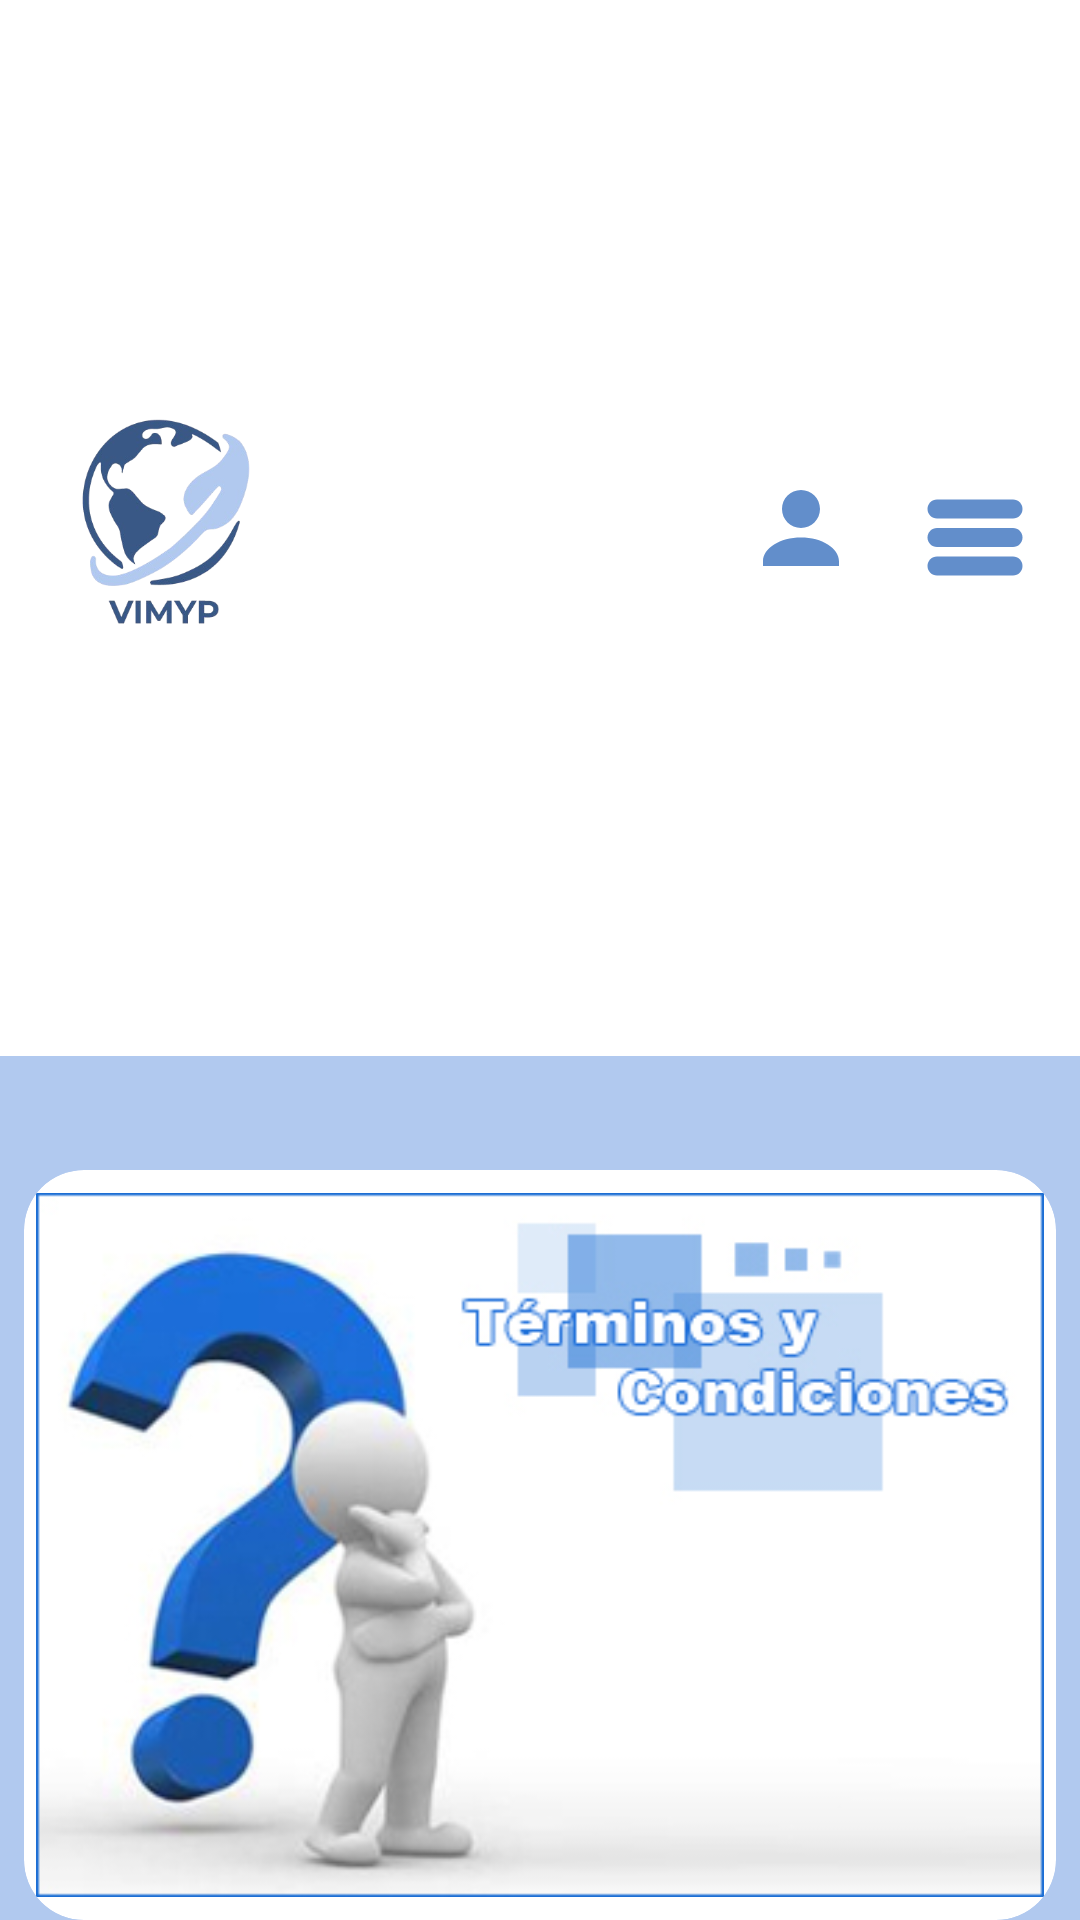

Named icons in this screenshot (1080px×1920px) and their centers, point (x, y):
Menu: point (975, 537)
User: point (801, 528)
